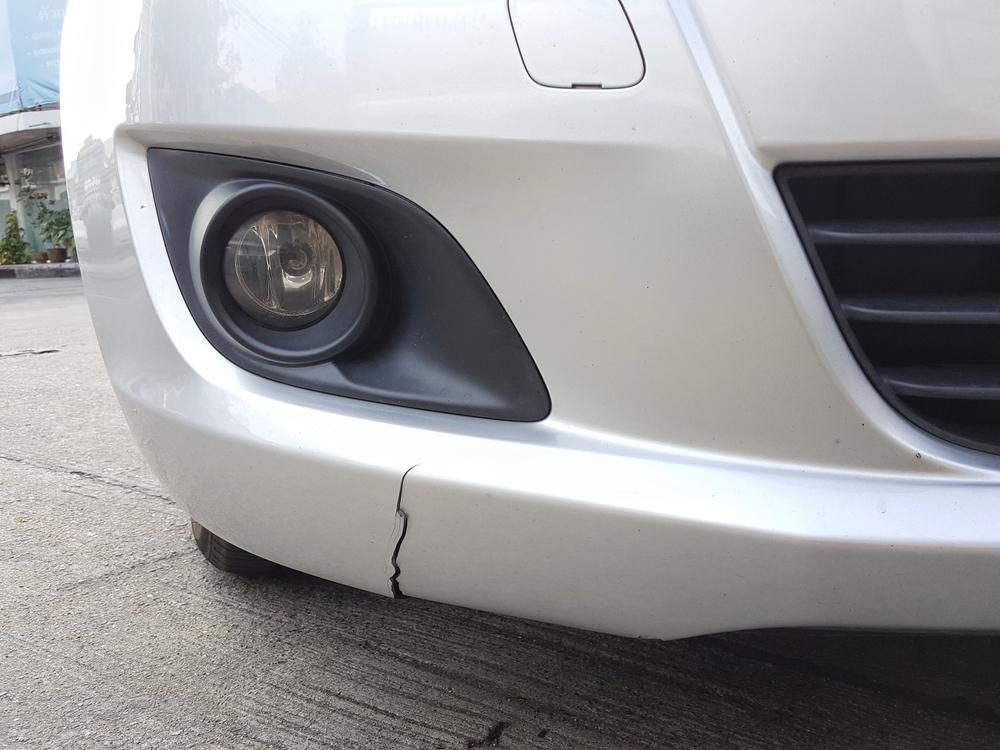crack: (388, 461, 425, 598)
